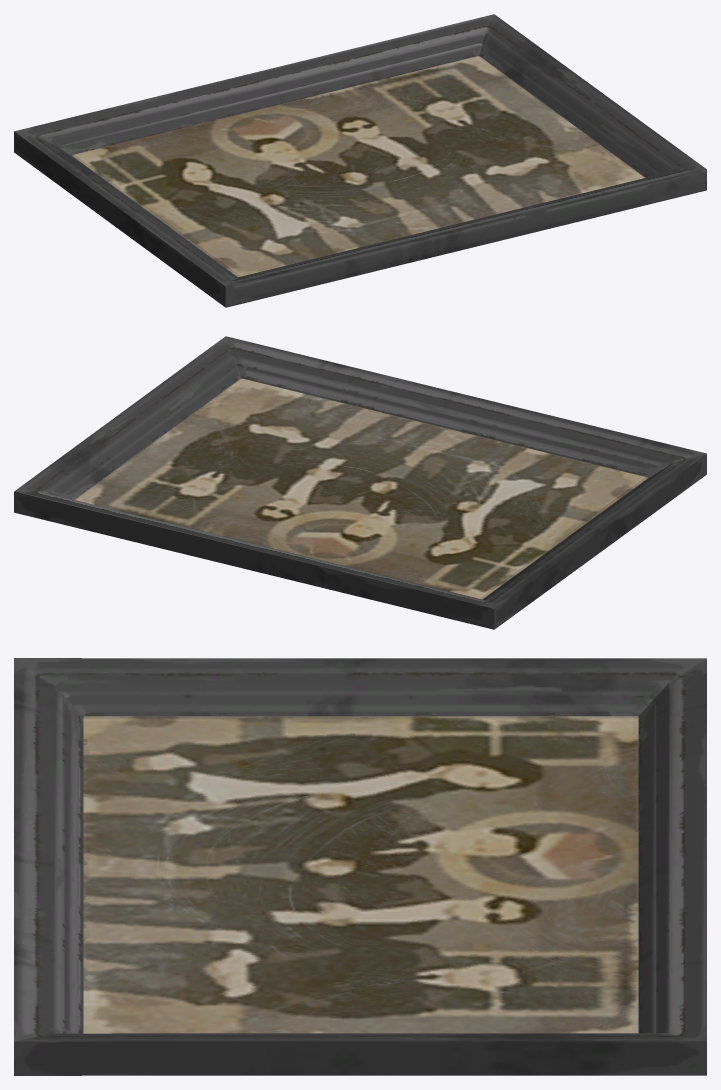
The model's file is P_Decoration_00154.obj.
3 renders of one model, top to bottom at view 1: azimuth 30°, elevation 25°; view 2: azimuth 150°, elevation 25°; view 3: azimuth 270°, elevation 25°, orthographic. The views are drawn at different scales.
Bounding box in the file's own units: 1.08 × 0.045 × 0.8246.
1 material, 1 textured.
